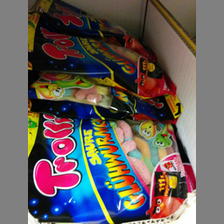candy: (29, 114, 194, 221), (37, 20, 167, 83)
